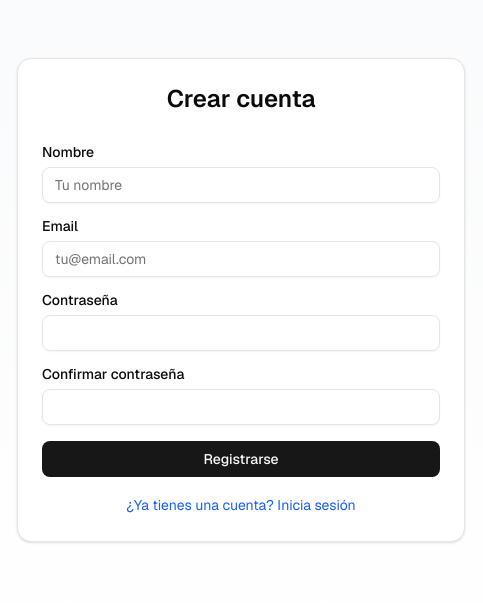
Test: RegisterPage › muestra errores de validación cuando los campos están vacíos
// Intentar enviar el formulario vacío
Click the button "Registrarse".
click(241, 459)  # box [42,441,440,477]
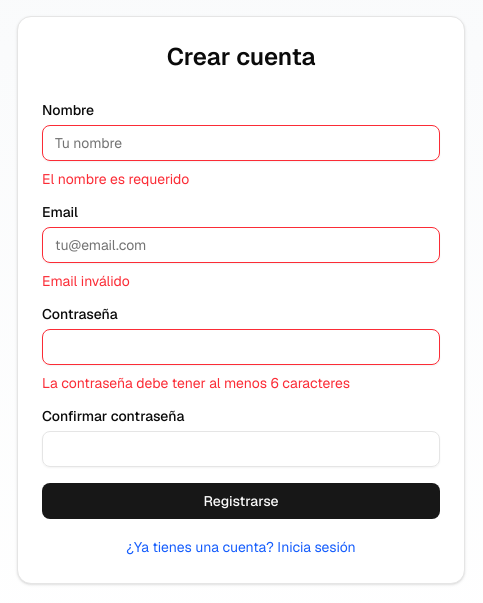
Now the text "El nombre es requerido" is shown, box [42,170,189,188]
Now the text "Email inválido" is shown, box [42,272,130,290]
Now the text "La contraseña debe tener al menos 6 caracteres" is shown, box [42,374,350,392]
